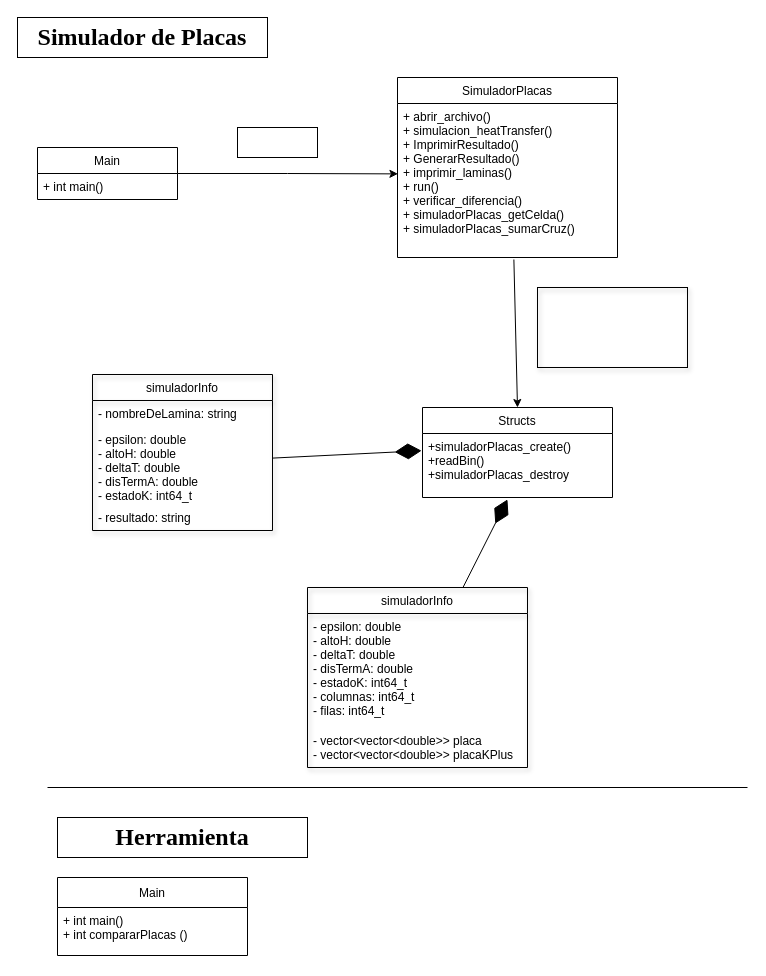
This 766x976 diagram has some shape labels left out. Each missing label, with the centre of its shape:
Llama a: [277,142]
Llama los metodos y usa los structs para pdoer trabajar las placas: [613,328]
